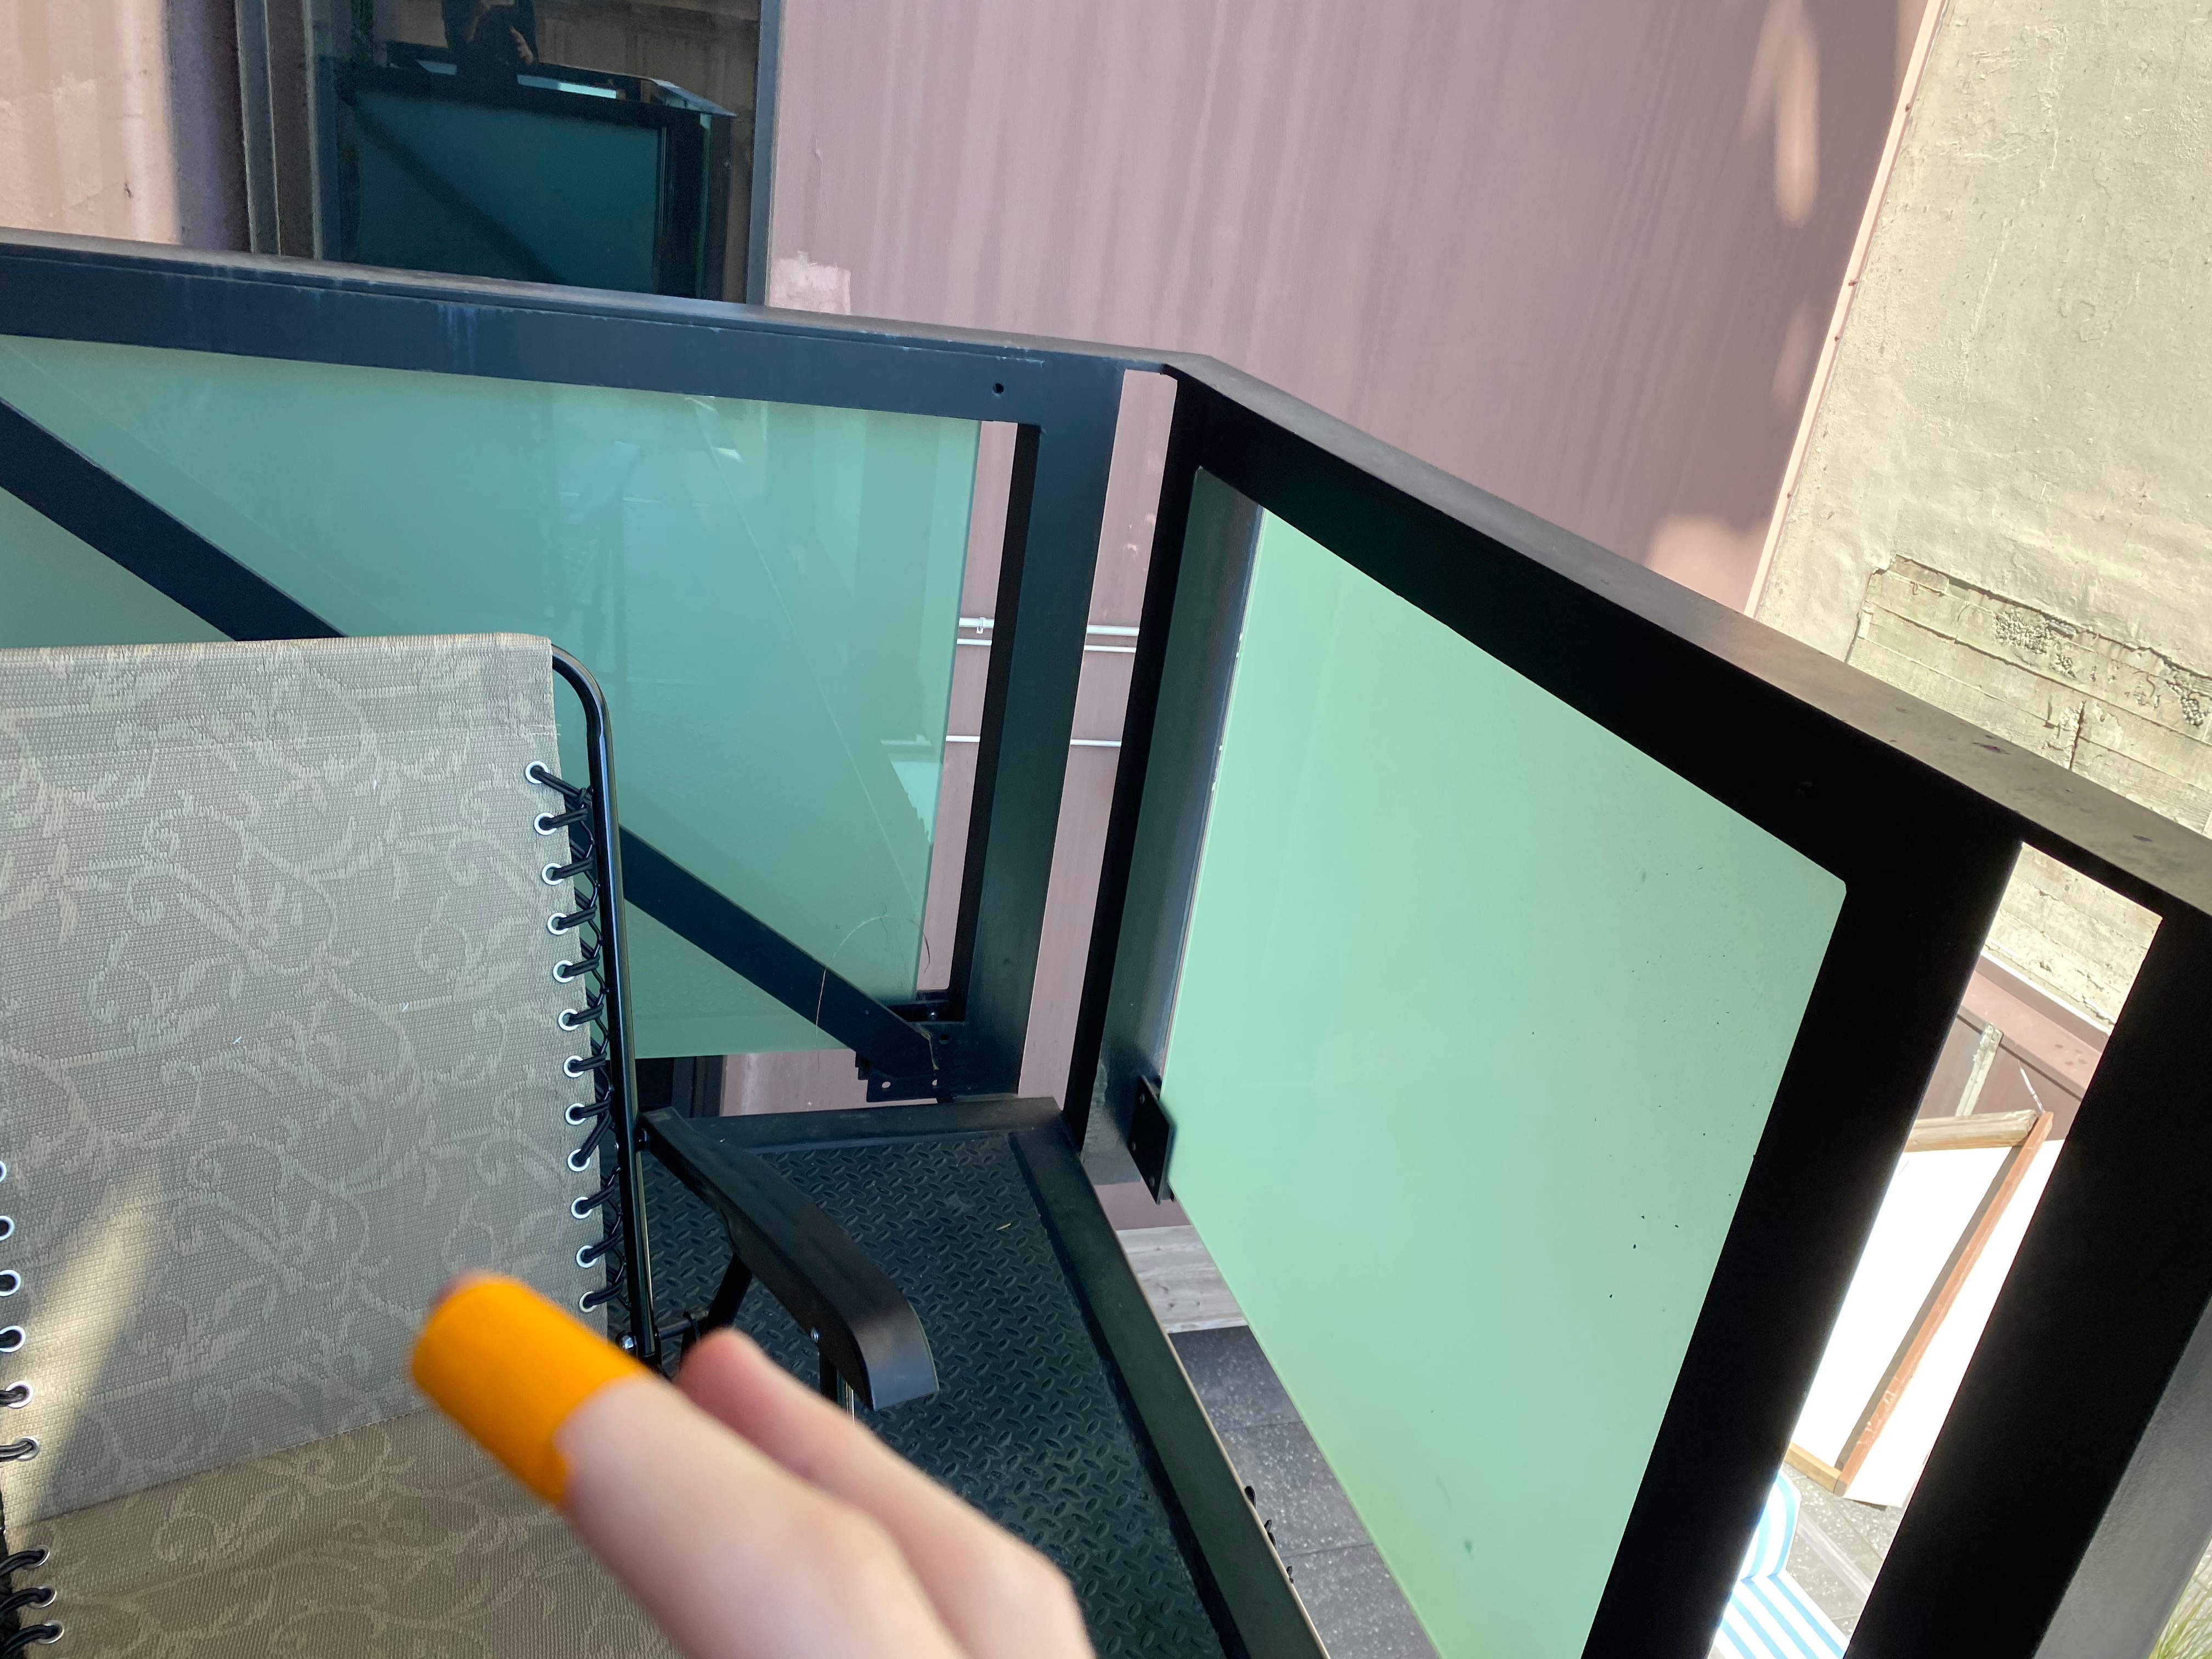fingertip: (388, 1236, 634, 1514)
